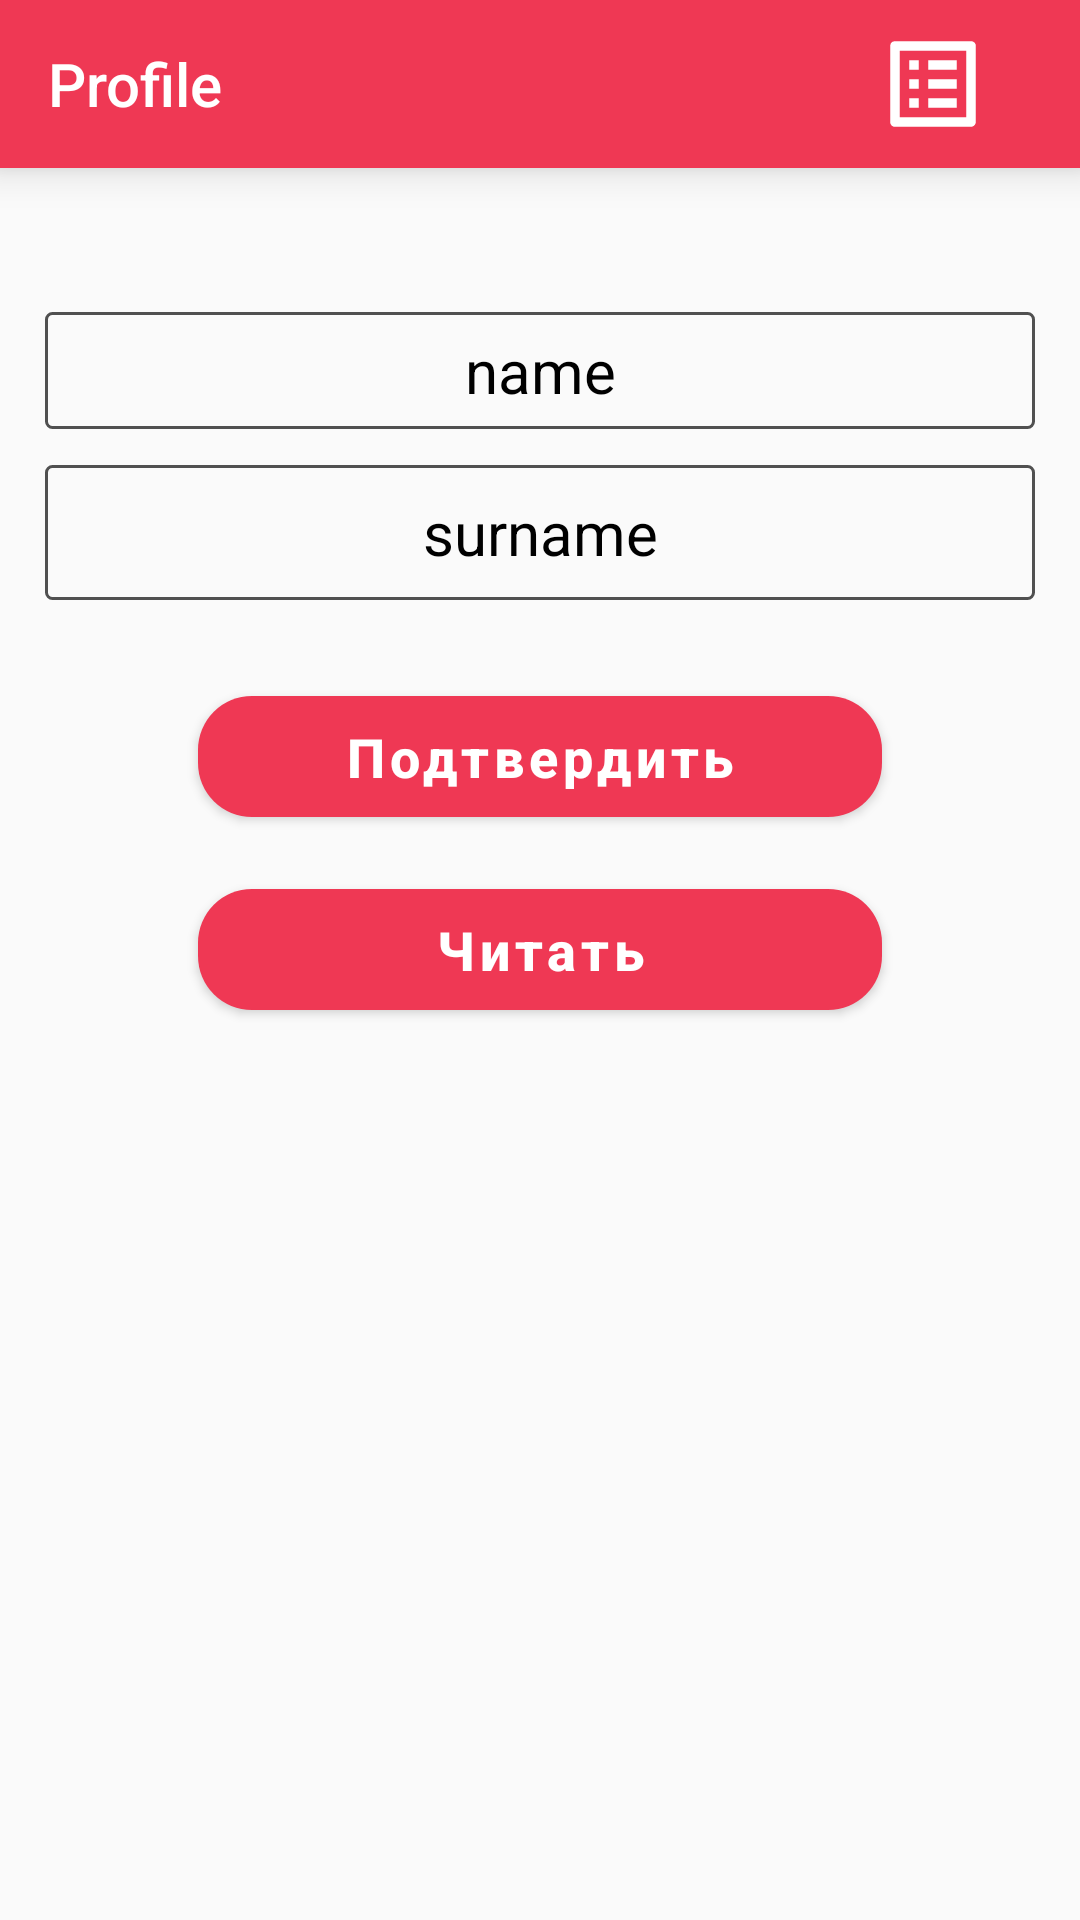

Point at icon controls on the screen. Image size 1080×1920, points as (x=x, y=y).
list: (x=933, y=84)
